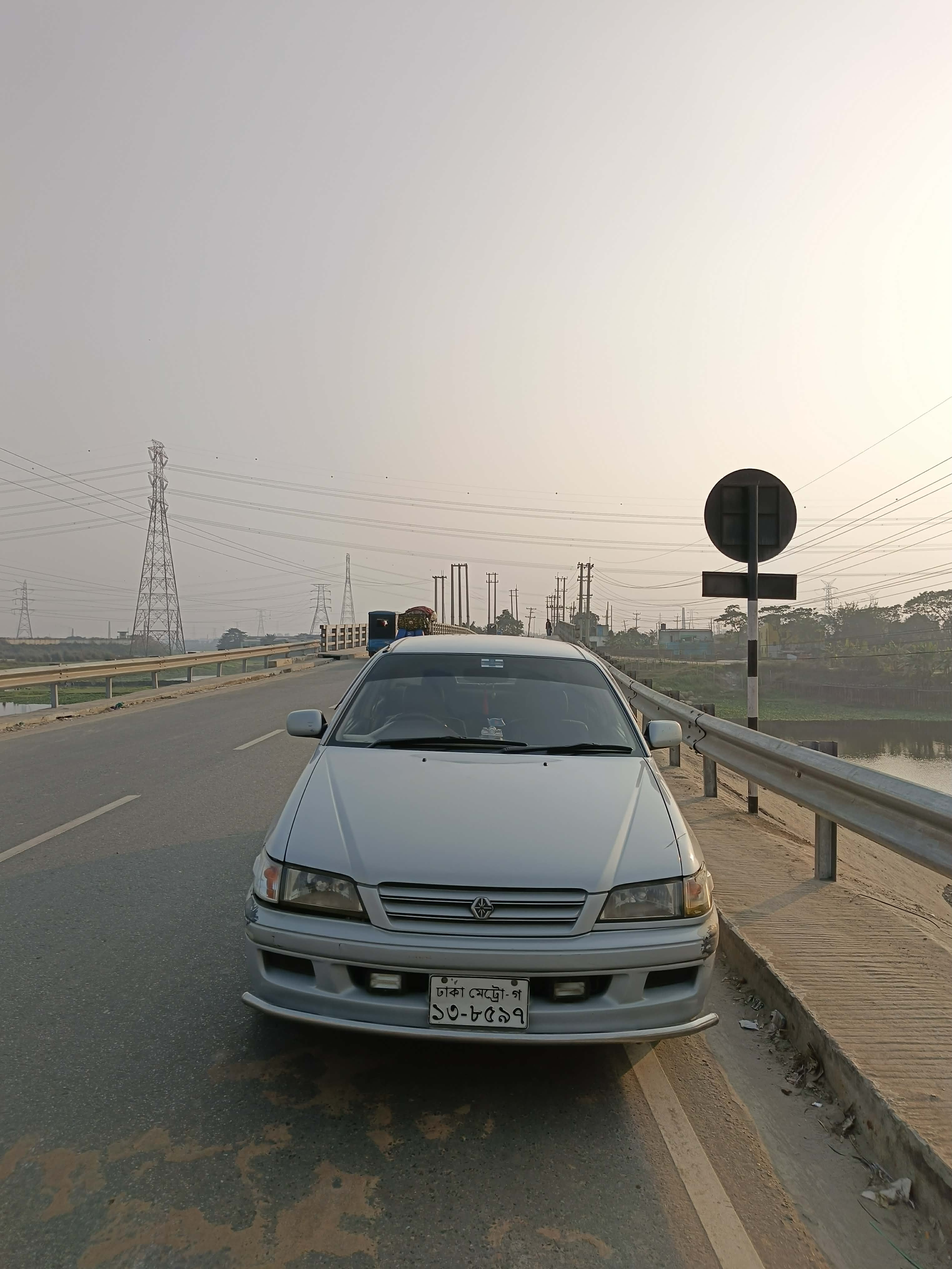private car: (244, 601, 743, 1086)
